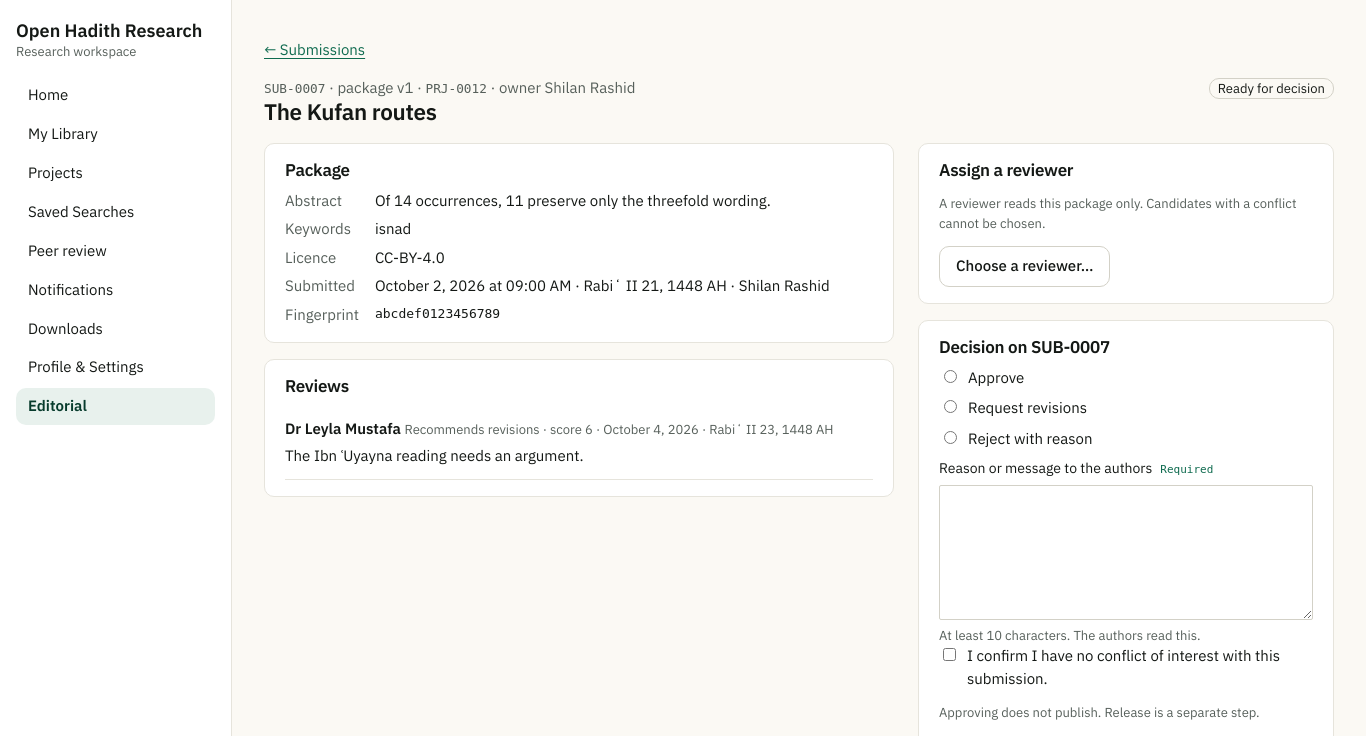
Test: Editorial console: a case › finds a candidate by name
The width and height of the screenshot is (1366, 736).
Click the button "Choose a reviewer…" at x=1025, y=267, box [939, 246, 1110, 287]
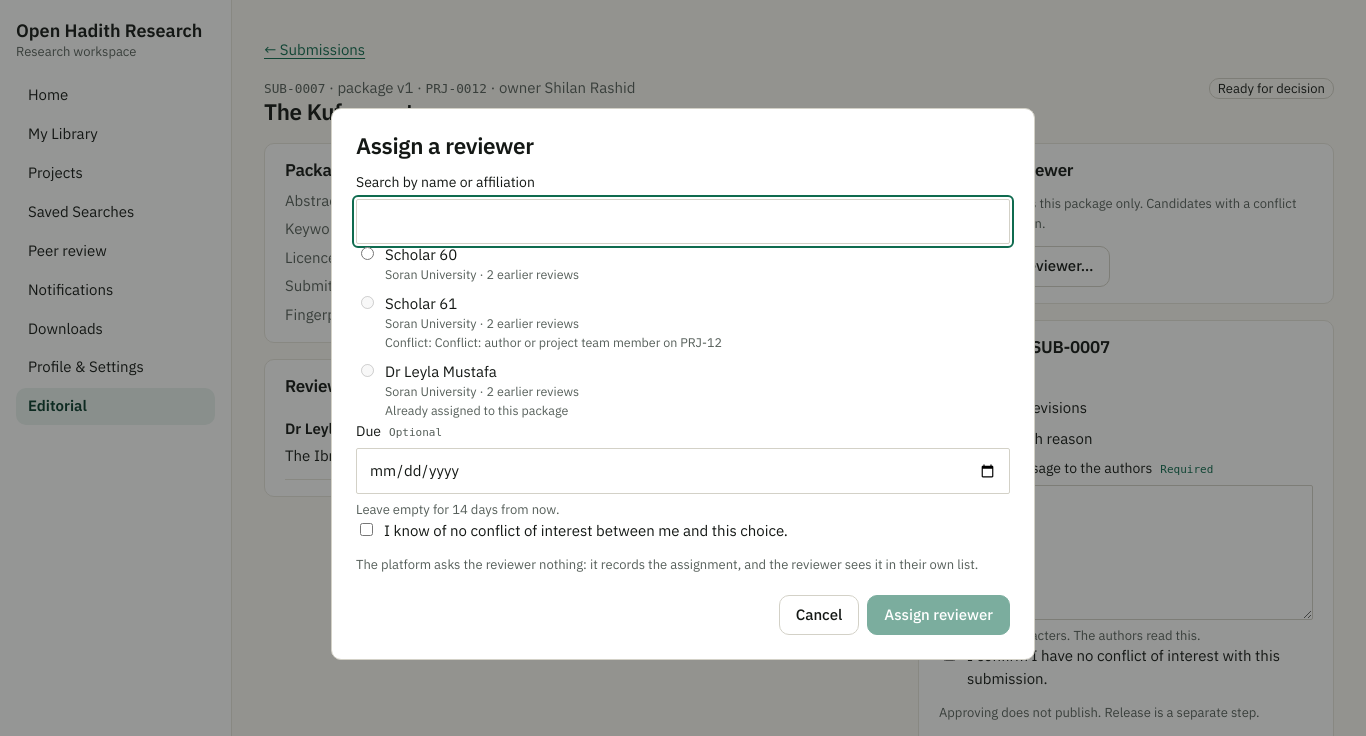
Check: the radio button labelled "Scholar 60 Soran University · 2 earlier reviews" is shown, box [361, 247, 374, 260]
Type "Leyla" into the search field at x=683, y=221, box [356, 199, 1010, 244]
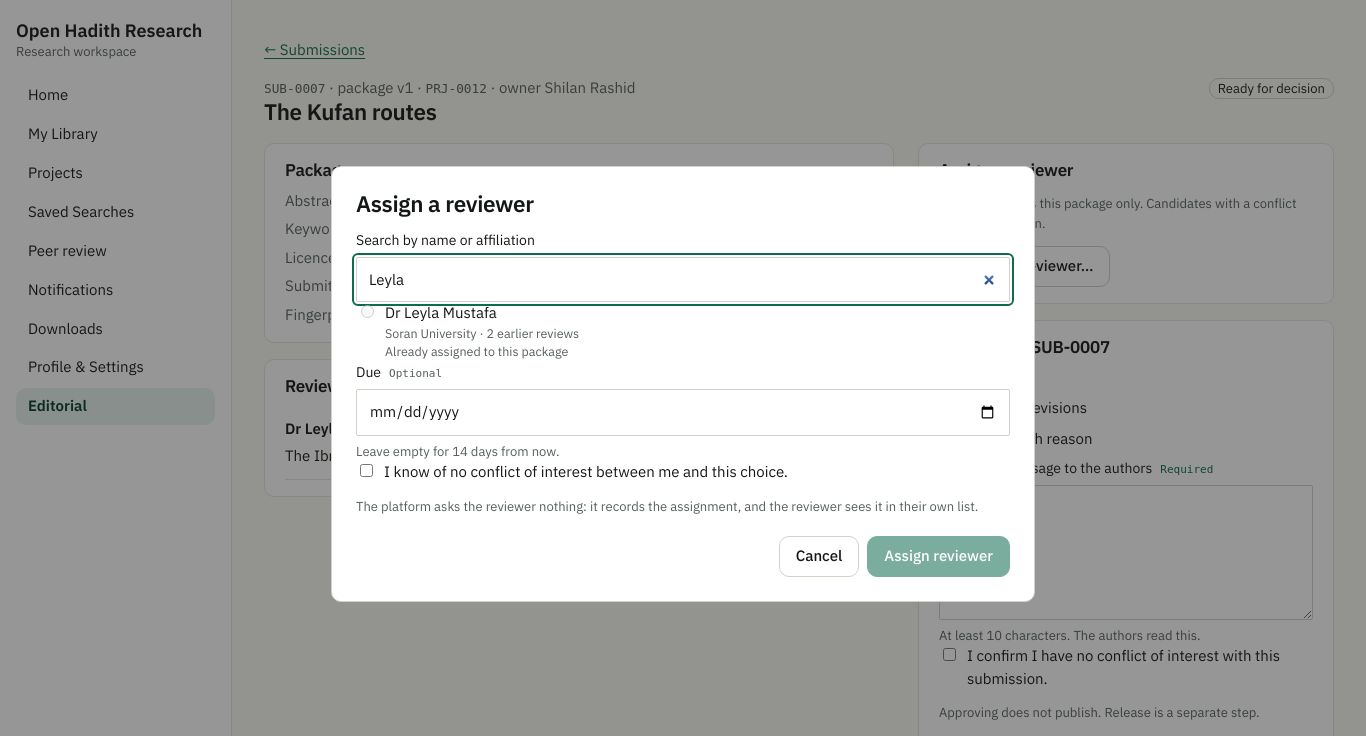
Check: the radio button labelled "Dr Leyla Mustafa" is shown, box [361, 305, 374, 318]
Check: the text "Scholar 60" is gone
